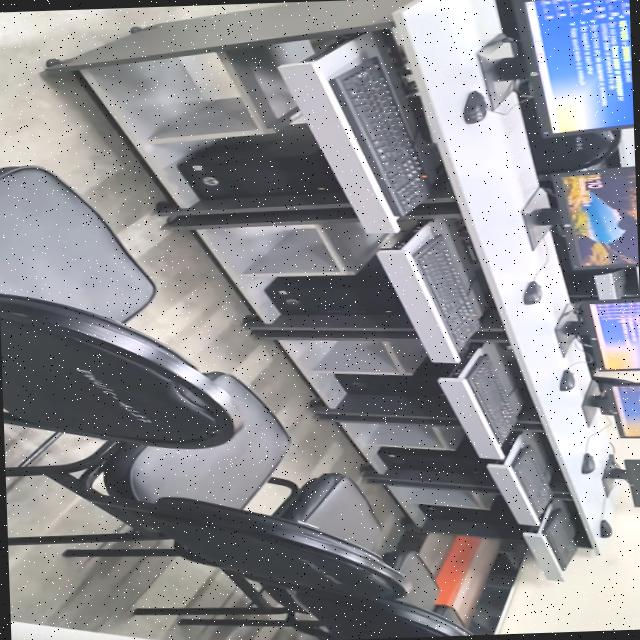Chair: (5, 370, 408, 599), (0, 164, 235, 447), (133, 561, 472, 640), (268, 472, 378, 549), (526, 121, 618, 173)
Cpu: (179, 123, 338, 198), (314, 358, 456, 421), (266, 257, 402, 313), (379, 439, 483, 474)
Keyboard: (329, 55, 433, 214), (413, 234, 479, 351), (466, 352, 516, 442), (511, 444, 550, 515), (542, 504, 576, 569)
Monitor: (514, 0, 633, 137), (535, 165, 638, 269), (562, 297, 640, 369), (603, 453, 640, 505), (611, 384, 640, 436)
Mouse: (463, 89, 488, 122), (524, 279, 542, 303), (559, 368, 575, 390), (581, 452, 595, 472), (600, 518, 612, 536)
